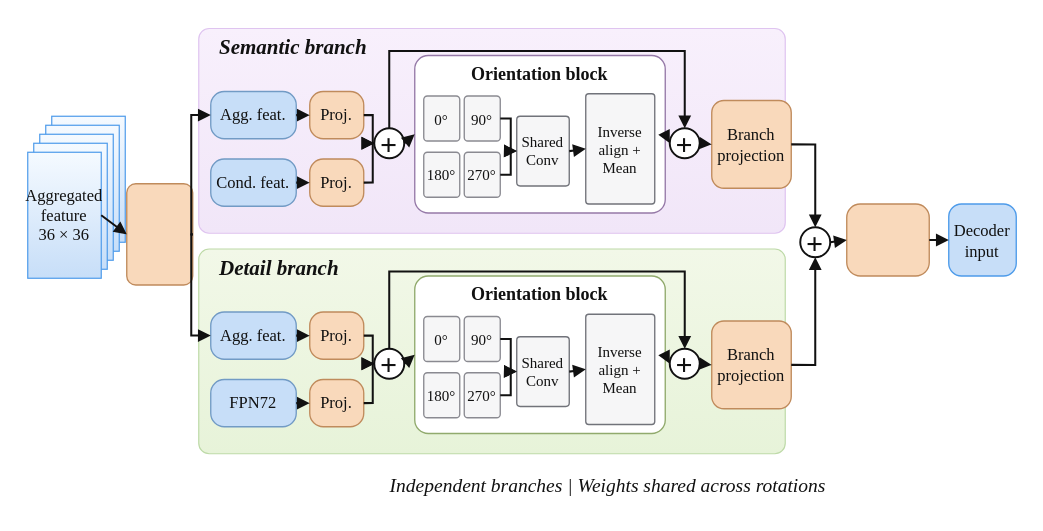
This 1043x531 diagram has some shape labels left out. Each missing label, with the box of its shape:
Output projection: (845, 203, 929, 276)
Upsample 72 × 72: (125, 182, 193, 285)
